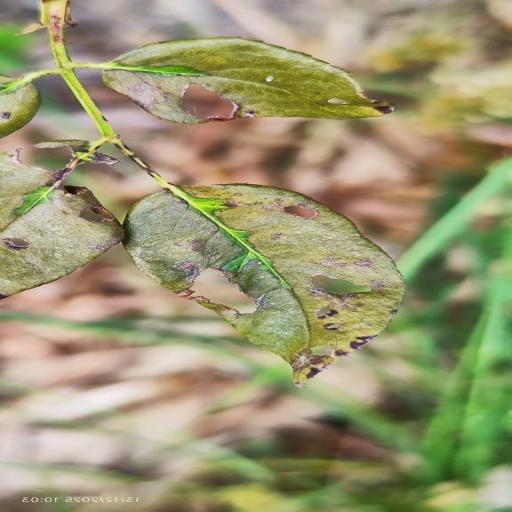thrip: (124, 184, 403, 386), (102, 38, 392, 124), (0, 150, 124, 298), (35, 140, 92, 169)
